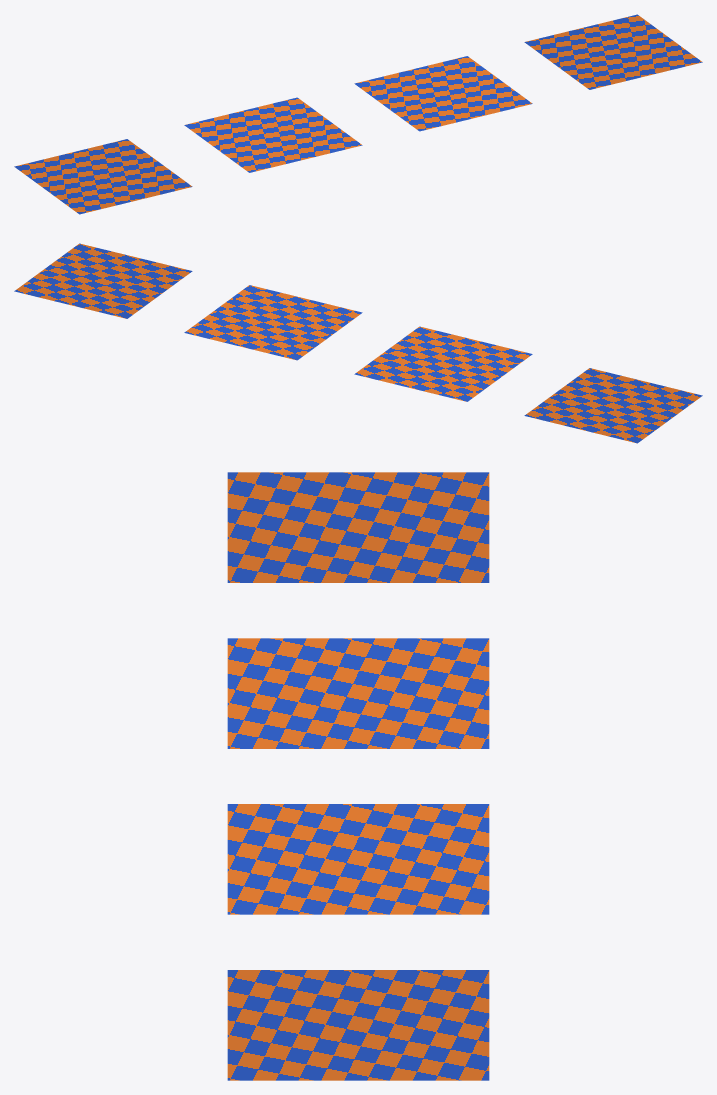
File: texture_transform.glb
3 views of the same model, one above another, from view 1: azimuth 30°, elevation 25°; view 2: azimuth 150°, elevation 25°; view 3: azimuth 270°, elevation 25° (orthographic). The views are drawn at different scales.
Parts seen in each view (by area): view 1: One transform, Set override, Two transforms, No free set; view 2: One transform, Set override, Two transforms, No free set; view 3: One transform, Two transforms, No free set, Set override.
Boxes of the visible parts, bbox=[...] form: One transform: bbox=[14, 139, 192, 214]; Set override: bbox=[524, 14, 702, 89]; Two transforms: bbox=[184, 97, 362, 172]; No free set: bbox=[354, 56, 532, 131]; One transform: bbox=[524, 368, 702, 443]; Set override: bbox=[14, 243, 192, 318]; Two transforms: bbox=[354, 326, 532, 401]; No free set: bbox=[184, 285, 362, 360]; One transform: bbox=[227, 472, 489, 582]; Two transforms: bbox=[227, 638, 489, 748]; No free set: bbox=[227, 804, 489, 914]; Set override: bbox=[227, 970, 489, 1080].
Bounding box in the file's own units: 11 × 0 × 2.
4 materials, 4 textured.
